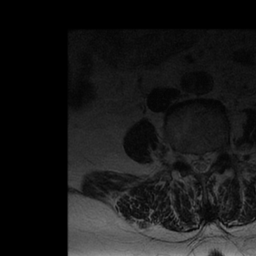CCS_normal: (197, 144, 205, 184)
LFS_normal: (213, 139, 221, 168)
LLS_normal: (205, 142, 213, 177)
RFS_normal: (181, 142, 189, 173)
RLS_normal: (189, 143, 197, 181)
